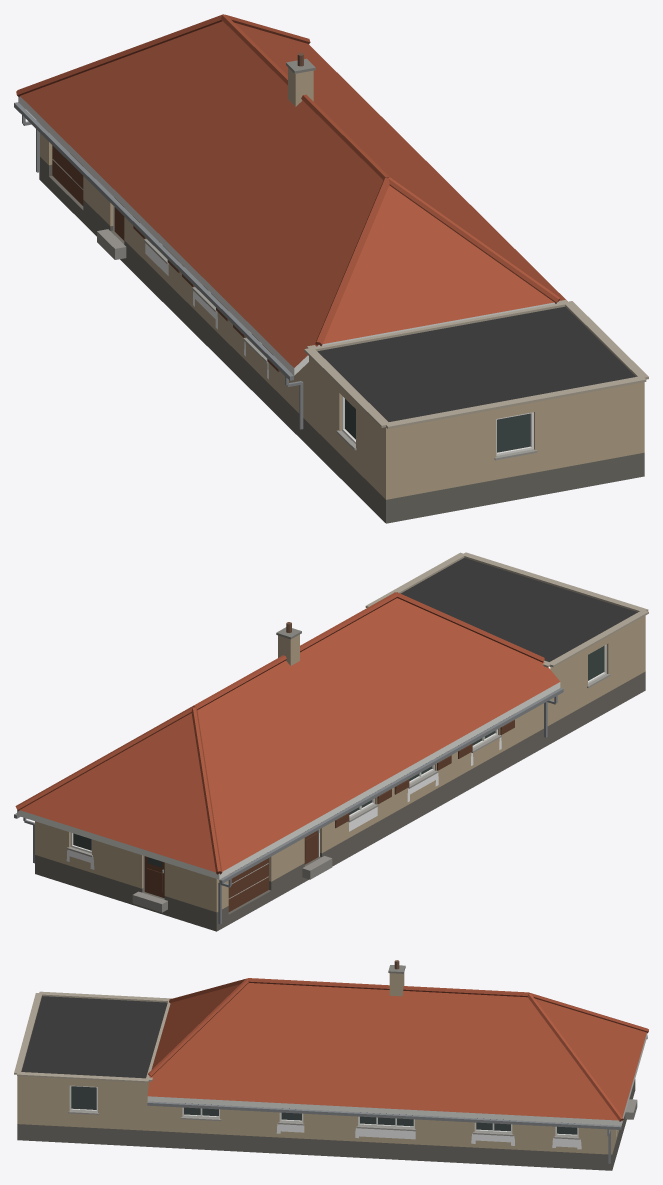
File: vh_hip_single.glb
3 renders of one model, top to bottom at view 1: azimuth 30°, elevation 25°; view 2: azimuth 150°, elevation 25°; view 3: azimuth 270°, elevation 25°, orthographic. The views are drawn at different scales.
Parts seen in each view (by area): view 1: vh_roof, vh_stone, vh_brick, vh_trim, vh_frames_small, vh_glass; view 2: vh_roof, vh_trim, vh_stone, vh_brick, vh_frames_small, vh_glass, vh_streaks_small; view 3: vh_roof, vh_brick, vh_trim, vh_stone, vh_frames_small, vh_glass, vh_streaks_small.
Boxes of the visible parts, left/top/right/bottom form: vh_roof: left=16, top=14, right=567, bottom=367; vh_stone: left=97, top=52, right=648, bottom=460; vh_brick: left=40, top=67, right=644, bottom=499; vh_trim: left=18, top=96, right=644, bottom=523; vh_frames_small: left=14, top=102, right=533, bottom=455; vh_glass: left=163, top=246, right=530, bottom=452; vh_roof: left=15, top=592, right=560, bottom=874; vh_trim: left=17, top=671, right=645, bottom=931; vh_stone: left=67, top=552, right=648, bottom=912; vh_brick: left=35, top=615, right=645, bottom=912; vh_frames_small: left=14, top=644, right=606, bottom=924; vh_glass: left=73, top=646, right=603, bottom=867; vh_streaks_small: left=66, top=737, right=501, bottom=869; vh_roof: left=147, top=978, right=648, bottom=1121; vh_brick: left=17, top=972, right=620, bottom=1154; vh_trim: left=17, top=1033, right=647, bottom=1170; vh_stone: left=14, top=960, right=637, bottom=1139; vh_frames_small: left=69, top=1035, right=647, bottom=1163; vh_glass: left=71, top=1086, right=577, bottom=1134; vh_streaks_small: left=276, top=1124, right=617, bottom=1149.
Size of the model in its own units: 11.74 by 7.29 by 26.54.
